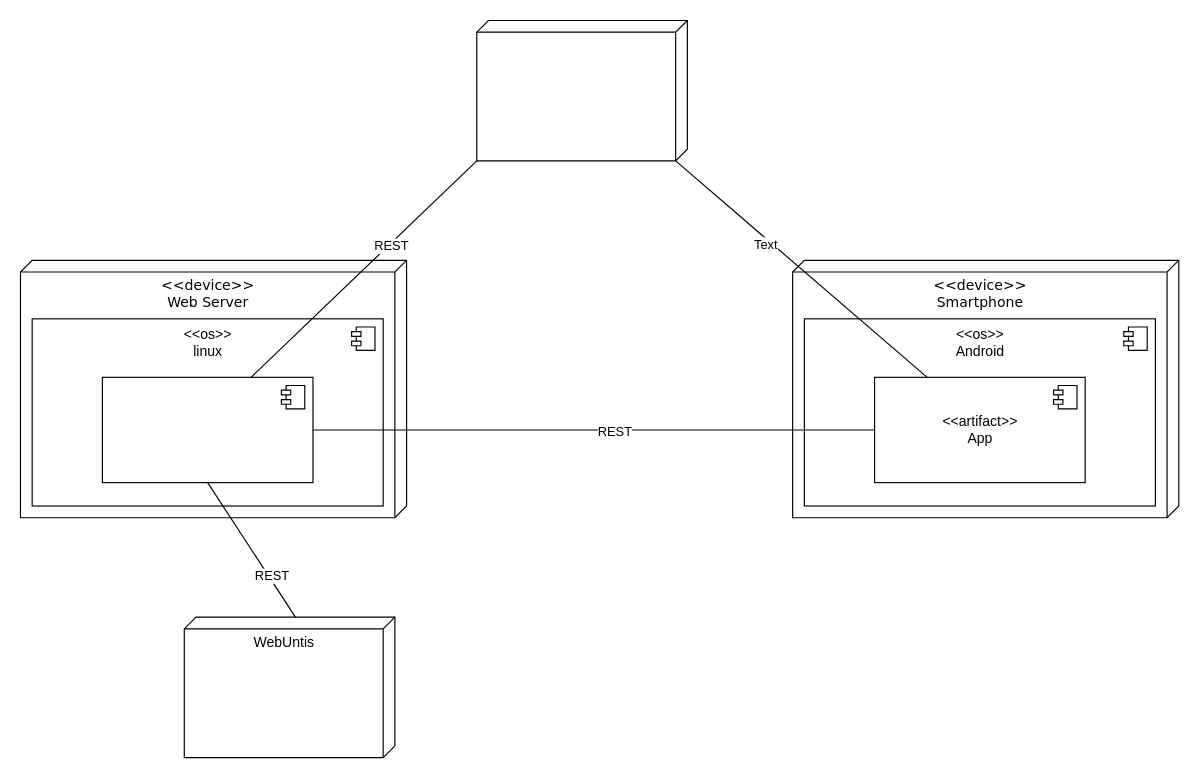
The diagram is 1199 pixels wide and 778 high, and some of its shapes have lost their labels. Here are the shapes that lost their labels. From the top down, the centre of each, then its label:
At point (581, 90): "Firebase".
At point (207, 429): "<<artifact>> Backend".
